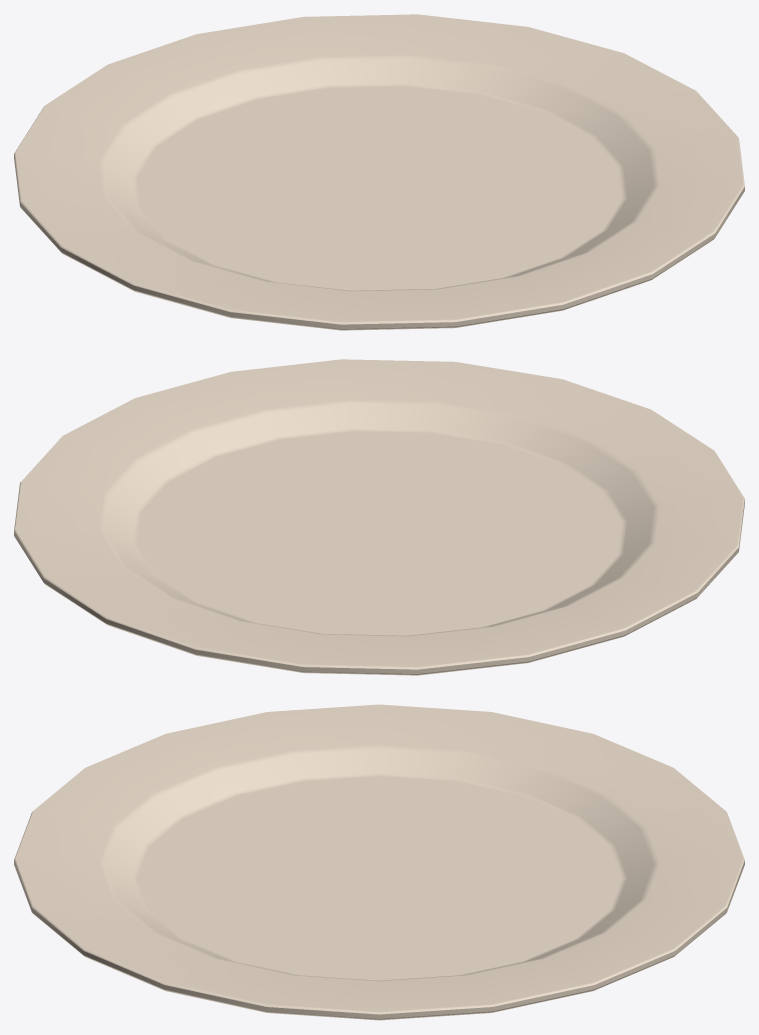
The model's file is mesh_fishandchips_plate.fbx.
3 views of the same model, one above another, from view 1: azimuth 30°, elevation 25°; view 2: azimuth 150°, elevation 25°; view 3: azimuth 270°, elevation 25° (orthographic).
Visible parts, largest first — view 1: mesh_fishandchips_plate; view 2: mesh_fishandchips_plate; view 3: mesh_fishandchips_plate.
Boxes of the visible parts, bbox=[...] form: mesh_fishandchips_plate: bbox=[14, 14, 744, 330]; mesh_fishandchips_plate: bbox=[14, 359, 744, 675]; mesh_fishandchips_plate: bbox=[14, 704, 744, 1020].
Bounding box in the file's own units: 0.47 × 0.0211 × 0.4702.
